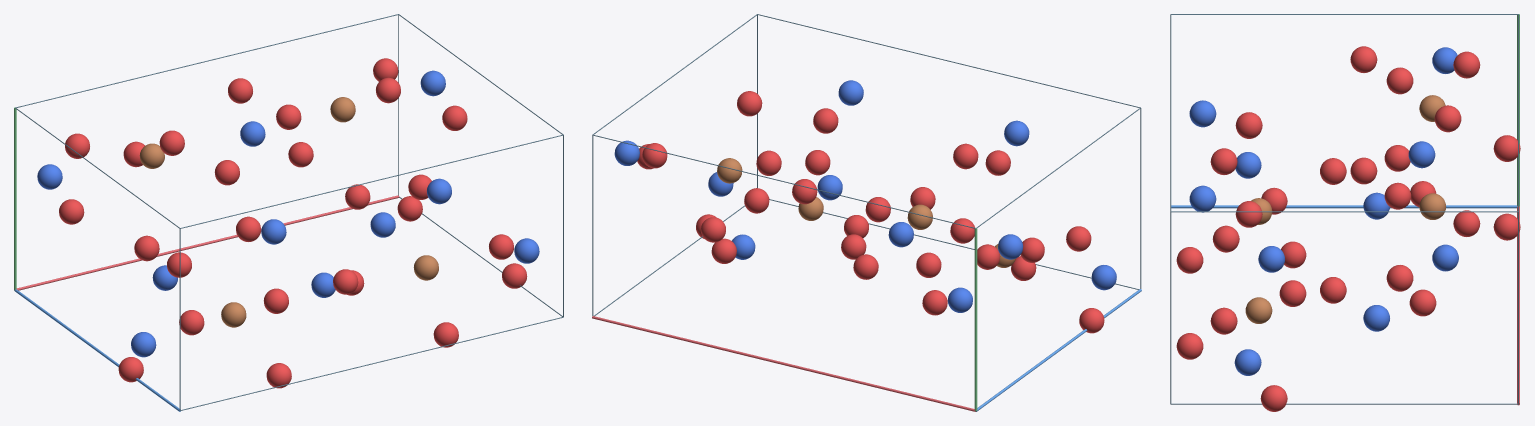
The model's file is cod-1542184.glb.
The picture shows the model from 3 angles, left to right: view 1: azimuth 30°, elevation 25°; view 2: azimuth 150°, elevation 25°; view 3: azimuth 270°, elevation 25°; orthographic projection. The views are drawn at different scales.
Visible parts, largest first — view 1: Ô mạng và các trục a, b, c, O5 · O · 1 (×4), Cu1 · Cu · 1 (×4), O3 · O · 1 (×4), N3 · N · 1 (×3), N1 · N · 1 (×3), O6 · O · 1 (×3), O2 · O · 1 (×3), O1 · O · 1 (×3), O7 · O · 1 (×3), N2 · N · 1 (×3), O4 · O · 1 (×2); view 2: Ô mạng và các trục a, b, c, O1 · O · 1 (×4), O5 · O · 1 (×4), O2 · O · 1 (×4), O4 · O · 1 (×4), N1 · N · 1 (×3), N2 · N · 1 (×3), O3 · O · 1 (×2), N3 · N · 1 (×2), O7 · O · 1 (×2), Cu1 · Cu · 1 (×2), O6 · O · 1; view 3: Ô mạng và các trục a, b, c, O3 · O · 1 (×4), O5 · O · 1 (×4), N1 · N · 1 (×4), O2 · O · 1 (×4), O4 · O · 1 (×4), O1 · O · 1 (×4), O6 · O · 1 (×3), N3 · N · 1 (×3), N2 · N · 1 (×3), O7 · O · 1 (×3), Cu1 · Cu · 1 (×3).
Boxes of the visible parts, x1,y1,x2,y2 form: Ô mạng và các trục a, b, c: (14, 14, 563, 411); O5 · O · 1 (×4): (179, 142, 513, 335); Cu1 · Cu · 1 (×4): (139, 97, 438, 327); O3 · O · 1 (×4): (159, 77, 458, 388); N3 · N · 1 (×3): (131, 121, 539, 357); N1 · N · 1 (×3): (261, 178, 451, 244); O6 · O · 1 (×3): (59, 105, 467, 294); O2 · O · 1 (×3): (167, 104, 422, 277); O1 · O · 1 (×3): (134, 184, 370, 261); O7 · O · 1 (×3): (118, 78, 527, 382); N2 · N · 1 (×3): (37, 70, 445, 297); O4 · O · 1 (×2): (65, 133, 288, 313); Ô mạng và các trục a, b, c: (592, 14, 1141, 411); O1 · O · 1 (×4): (711, 108, 1010, 315); O5 · O · 1 (×4): (756, 150, 1091, 251); O2 · O · 1 (×4): (701, 188, 1000, 279); O4 · O · 1 (×4): (642, 143, 975, 277); N1 · N · 1 (×3): (838, 80, 1029, 312); N2 · N · 1 (×3): (614, 140, 1023, 259); O3 · O · 1 (×2): (737, 91, 978, 169); N3 · N · 1 (×2): (817, 175, 1116, 290); O7 · O · 1 (×2): (805, 150, 1104, 333); Cu1 · Cu · 1 (×2): (717, 158, 932, 229); O6 · O · 1: (1020, 237, 1044, 262); Ô mạng và các trục a, b, c: (1170, 14, 1519, 405); O3 · O · 1 (×4): (1176, 46, 1377, 359); O5 · O · 1 (×4): (1210, 145, 1411, 334); N1 · N · 1 (×4): (1189, 100, 1389, 331); O2 · O · 1 (×4): (1320, 135, 1520, 303); O4 · O · 1 (×4): (1279, 51, 1480, 306); O1 · O · 1 (×4): (1235, 112, 1436, 316); O6 · O · 1 (×3): (1212, 67, 1413, 291); N3 · N · 1 (×3): (1234, 141, 1435, 375); N2 · N · 1 (×3): (1258, 47, 1458, 272); O7 · O · 1 (×3): (1260, 105, 1461, 411); Cu1 · Cu · 1 (×3): (1245, 95, 1446, 323).
Bounding box in the file's own units: 11.76 × 5.58 × 8.34.
